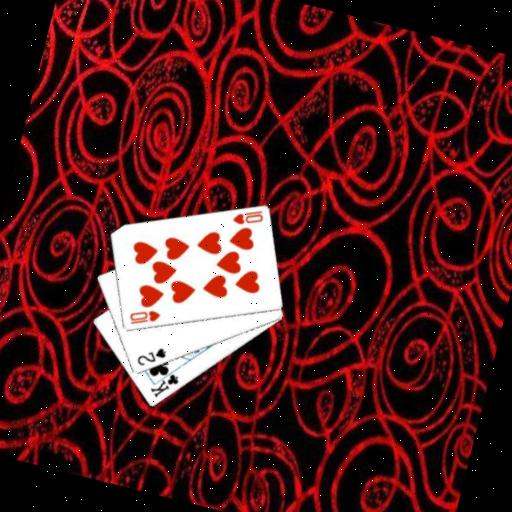10H: (228, 201, 267, 232), (125, 303, 163, 333)
2S: (133, 340, 169, 373)
KC: (146, 361, 184, 404)
